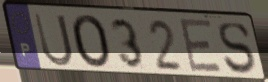2: (147, 18, 184, 72)
3: (110, 17, 146, 70)
E: (177, 17, 225, 76)
O: (69, 13, 113, 71)
S: (217, 21, 257, 76)
U: (32, 12, 76, 69)
